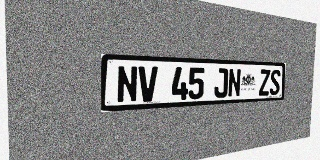4: (171, 67, 189, 100)
5: (188, 67, 204, 99)
J: (214, 68, 228, 98)
N: (117, 65, 138, 103), (228, 68, 241, 97)
S: (270, 69, 281, 95)
V: (138, 66, 158, 102)
Z: (259, 69, 270, 96)
